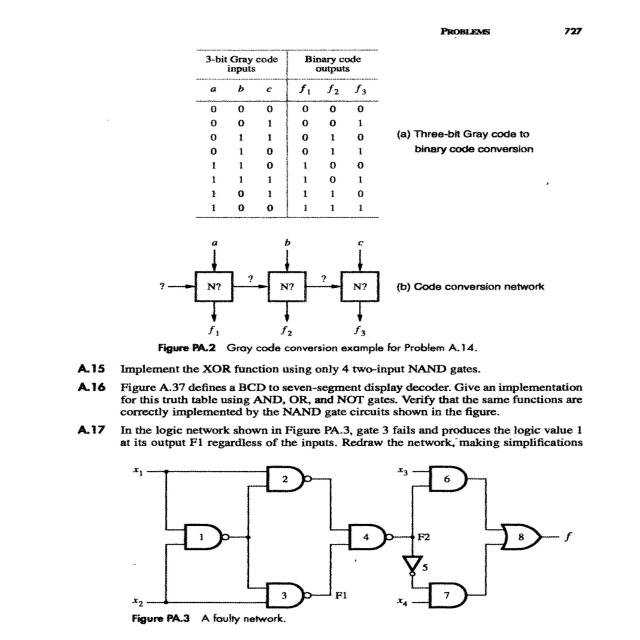diagram: (107, 33, 548, 355), (92, 460, 580, 640)
